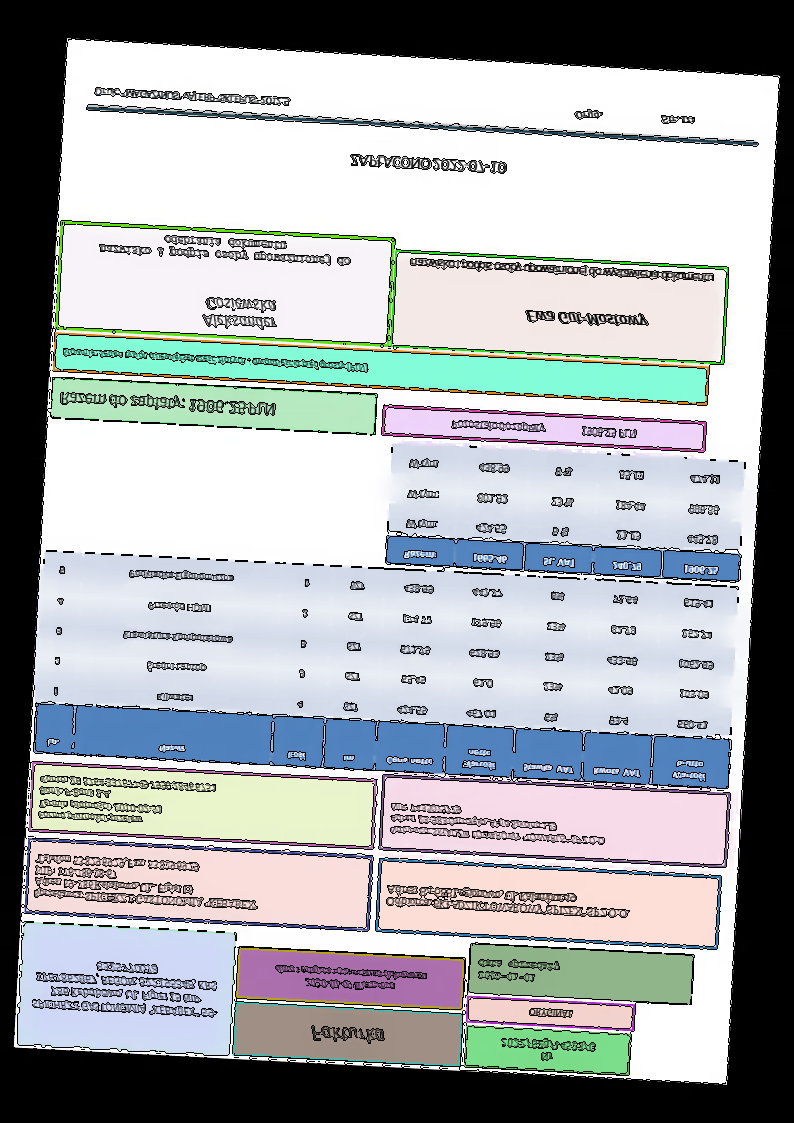Table: (32, 549, 740, 790), (384, 443, 746, 583)
TextBox: (31, 851, 263, 913), (26, 955, 222, 1021), (386, 800, 609, 848), (35, 773, 219, 831), (381, 882, 631, 922), (97, 230, 351, 269), (407, 254, 715, 286), (61, 346, 370, 375), (58, 388, 277, 420), (273, 962, 429, 995), (91, 84, 292, 108), (346, 150, 508, 177), (450, 418, 637, 441), (523, 305, 651, 332), (200, 294, 283, 333), (497, 1035, 598, 1066), (476, 955, 562, 986), (571, 108, 698, 128), (308, 1021, 386, 1046), (525, 1007, 575, 1021)
